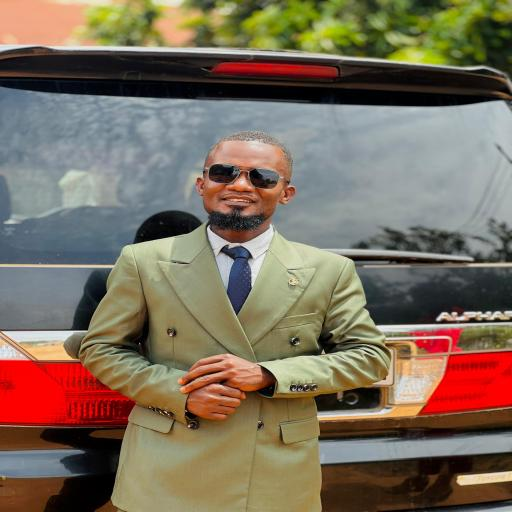MATTHIEU: (200, 138, 315, 240)
